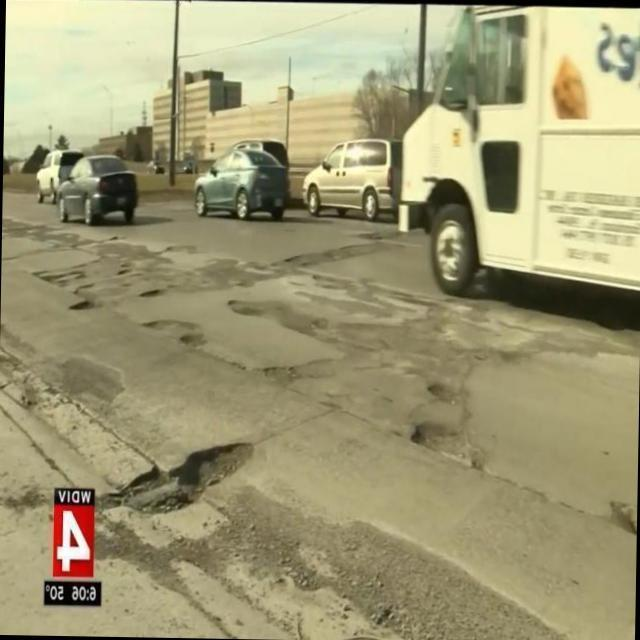Pothole: (98, 441, 248, 512)
